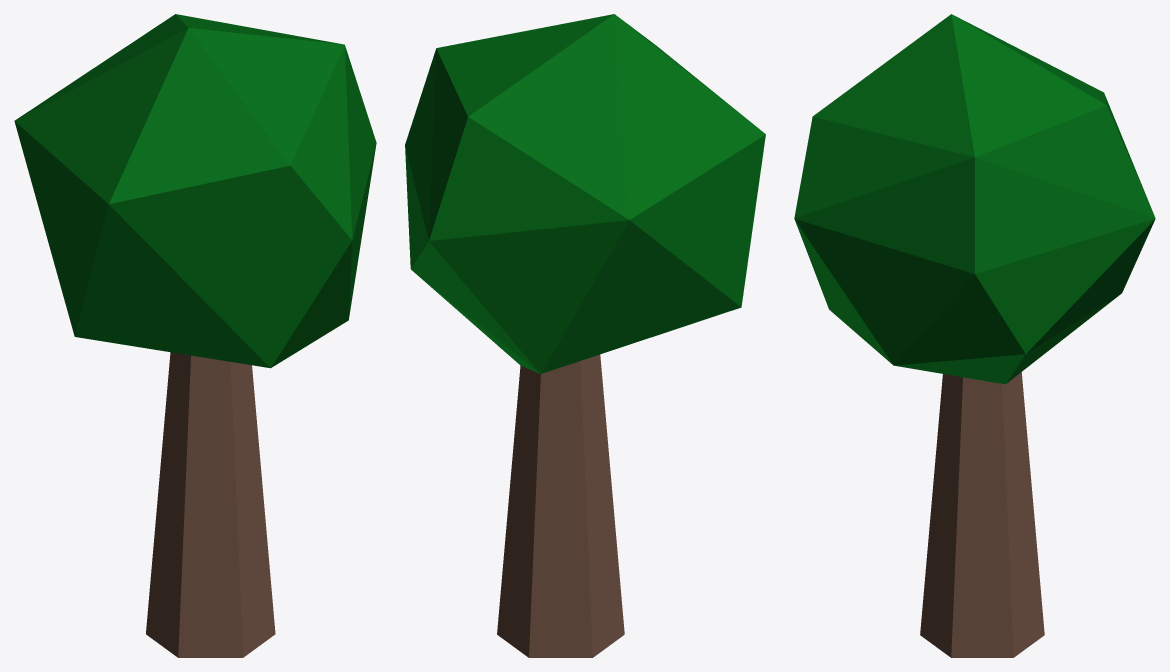
File: Tree.fbx
3 views of the same model, side by side, from view 1: azimuth 30°, elevation 25°; view 2: azimuth 150°, elevation 25°; view 3: azimuth 270°, elevation 25° (orthographic). The views are drawn at different scales.
Visible parts, largest first — view 1: Icosphere; view 2: Icosphere; view 3: Icosphere.
Boxes of the visible parts, bbox=[...] form: Icosphere: bbox=[14, 14, 376, 657]; Icosphere: bbox=[405, 14, 765, 657]; Icosphere: bbox=[794, 14, 1155, 657].
Bounding box in the file's own units: 1.96 × 3.66 × 1.99.
